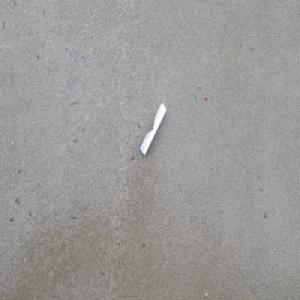ClampPart: (139, 101, 167, 157)
